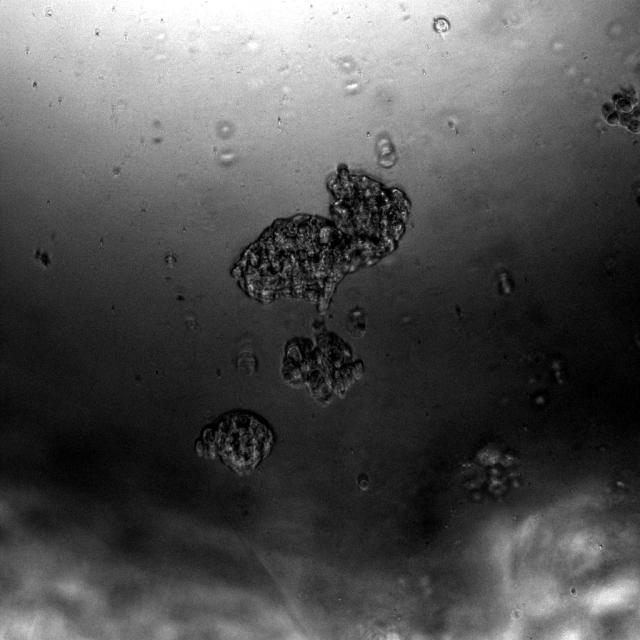organoid: (231, 165, 410, 403), (195, 409, 274, 476), (461, 443, 521, 500), (602, 86, 639, 134), (376, 132, 396, 168), (236, 351, 258, 375), (433, 16, 449, 33)
